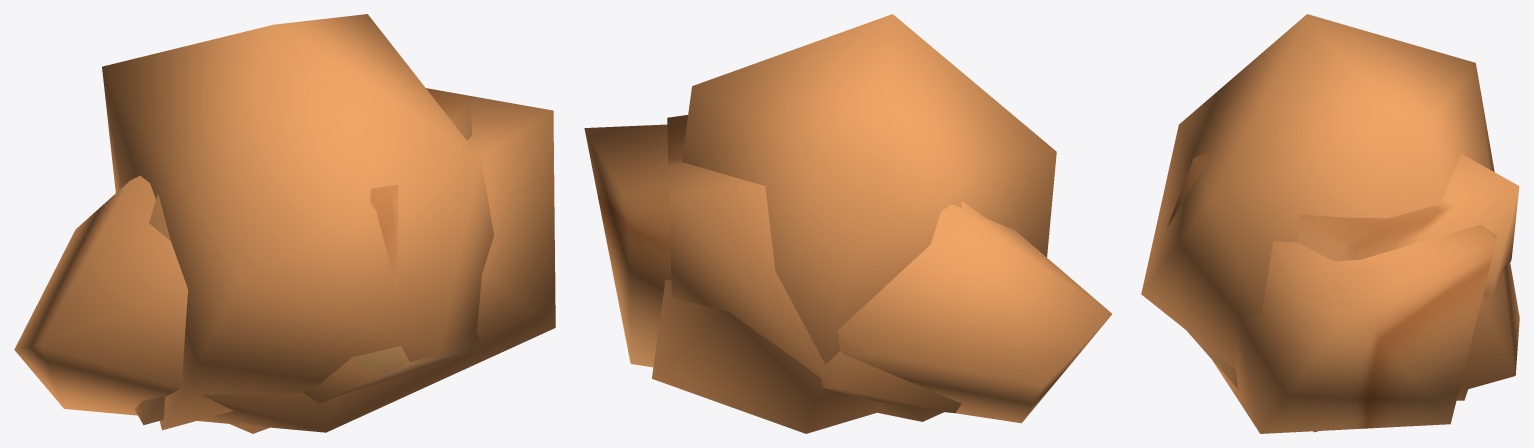
Rendered from Subrock_Smalls.fbx.
The picture shows the model from 3 angles, left to right: view 1: azimuth 30°, elevation 25°; view 2: azimuth 150°, elevation 25°; view 3: azimuth 270°, elevation 25°; orthographic projection. The views are drawn at different scales.
Parts seen in each view (by area): view 1: Rock_9, Rock_12, Rock_11, Rock_10; view 2: Rock_9, Rock_12, Rock_11, Rock_10; view 3: Rock_9, Rock_12, Rock_11.
Part boxes in pixels (<box>): Rock_9: <box>102,14,493,430</box>; Rock_12: <box>14,88,555,432</box>; Rock_11: <box>149,90,483,433</box>; Rock_10: <box>134,396,164,425</box>; Rock_9: <box>652,14,1056,433</box>; Rock_12: <box>584,124,1111,423</box>; Rock_11: <box>667,115,985,413</box>; Rock_10: <box>878,403,943,421</box>; Rock_9: <box>1141,14,1519,432</box>; Rock_12: <box>1212,225,1496,433</box>; Rock_11: <box>1166,152,1519,400</box>.
Size of the model in its own units: 12.02 by 7.85 by 8.21.
